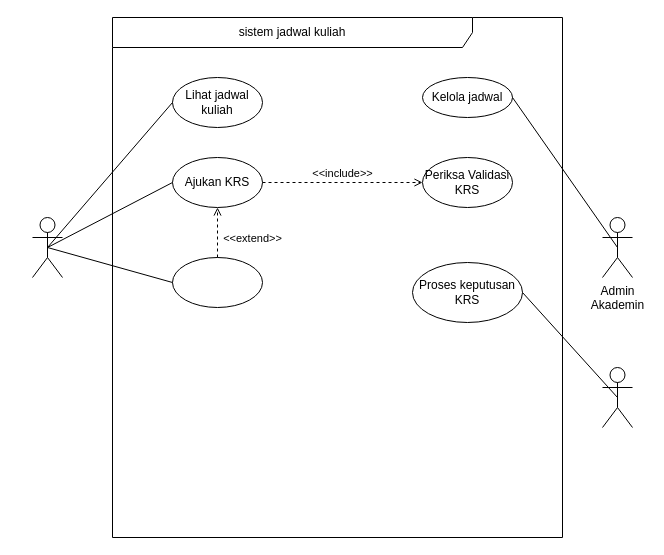
This 664x555 diagram has some shape labels left out. The box of each missing label's shape, as (x1, y1, x2, y2) in pixels:
Dosen wali: (602, 366, 632, 428)
Mahasiswa: (32, 216, 62, 278)
Unduh bukti pengajuan: (172, 256, 262, 308)
